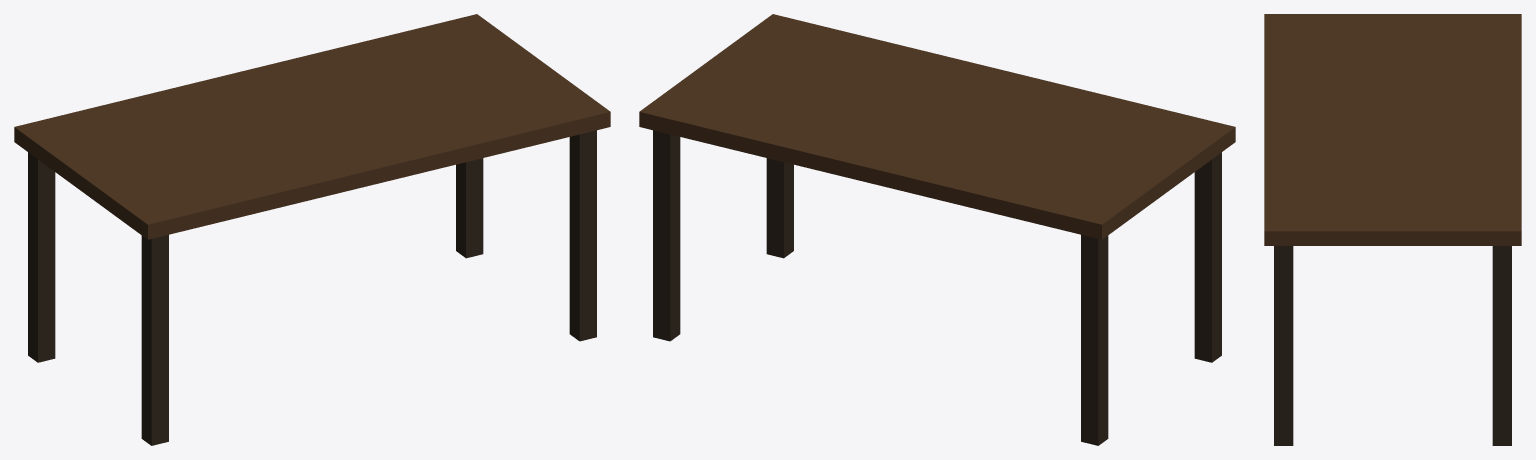
The model's file is prop_desk.glb.
3 renders of one model, left to right at view 1: azimuth 30°, elevation 25°; view 2: azimuth 150°, elevation 25°; view 3: azimuth 270°, elevation 25°, orthographic. The views are drawn at different scales.
Parts seen in each view (by area): view 1: body; view 2: body; view 3: body.
Boxes of the visible parts, x1,y1,x2,y2 form: body: (14, 14, 610, 445); body: (639, 14, 1235, 445); body: (1264, 14, 1521, 445).
Bounding box in the file's own units: 1.6 × 0.75 × 0.8.
